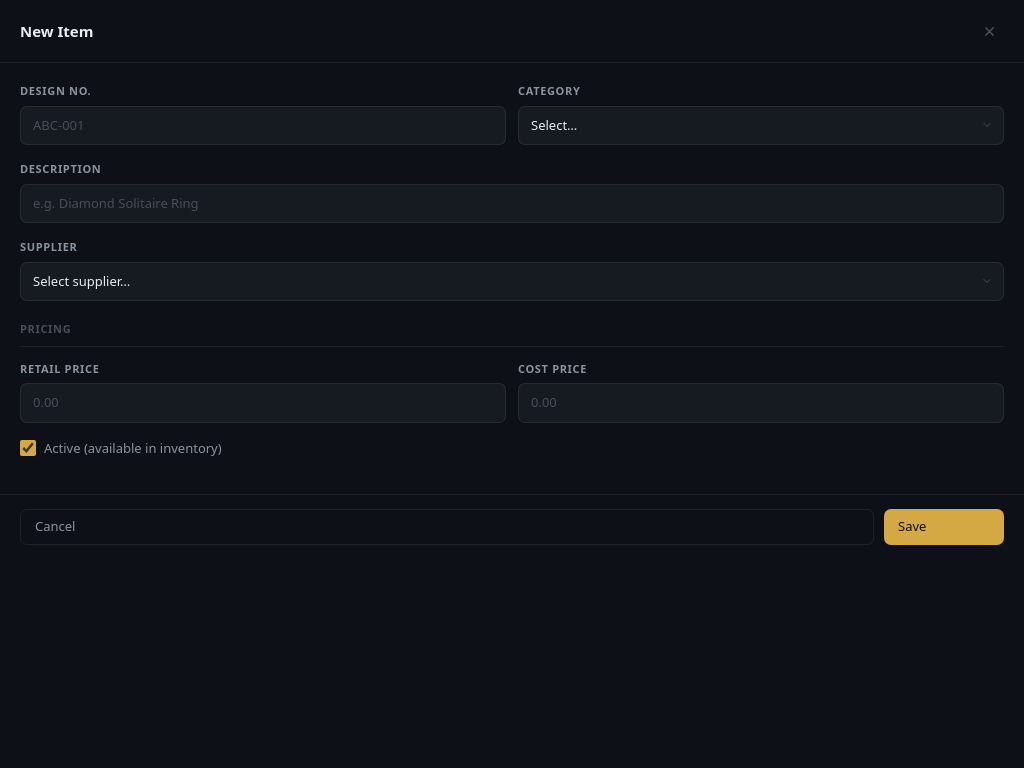
ItemDetail › shows a conflict message when a duplicate design returns 409 DESIGN_EXISTS
Type "PAN-001" into the field labelled "Design No." at (263, 125), box top-left (20, 106), bottom-right (506, 145)
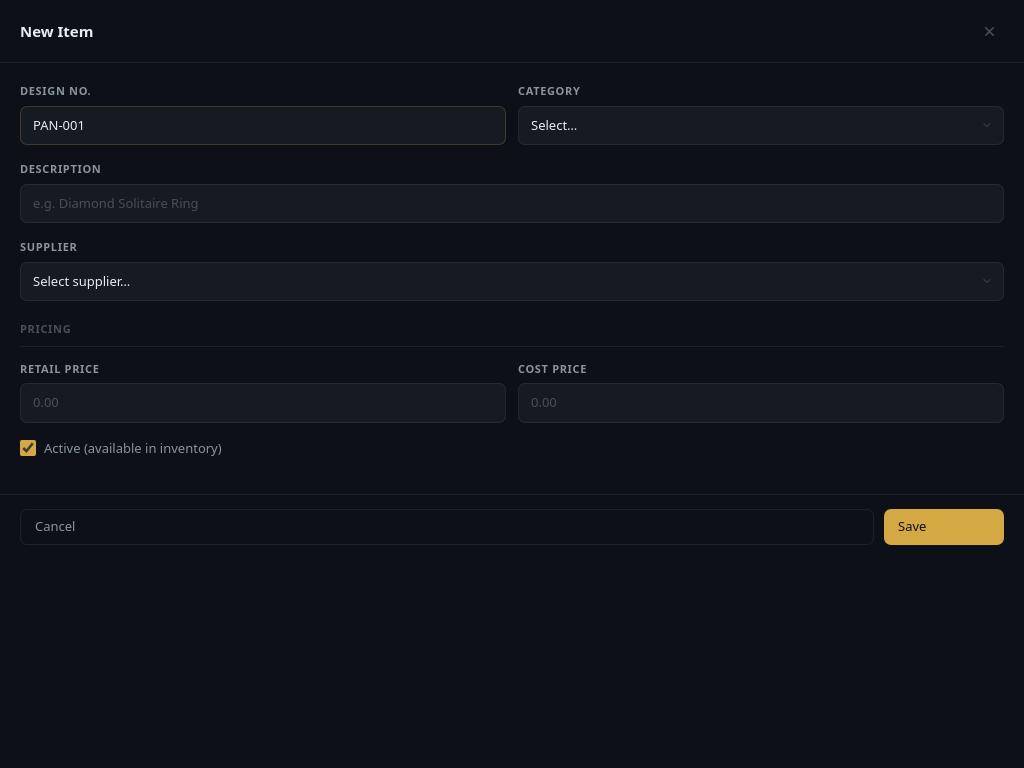
Type "Dupe" into the field labelled "Description" at (512, 203), box top-left (20, 184), bottom-right (1004, 223)
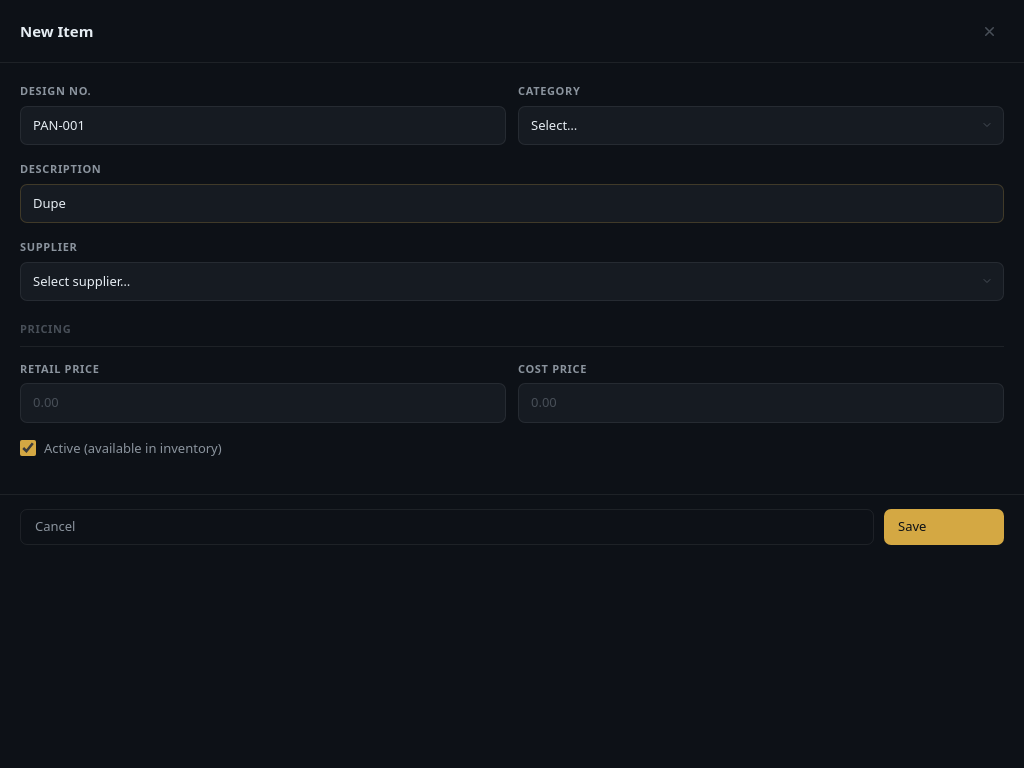
Type "499" into the number field labelled "Retail Price" at (263, 403), box top-left (20, 383), bottom-right (506, 422)
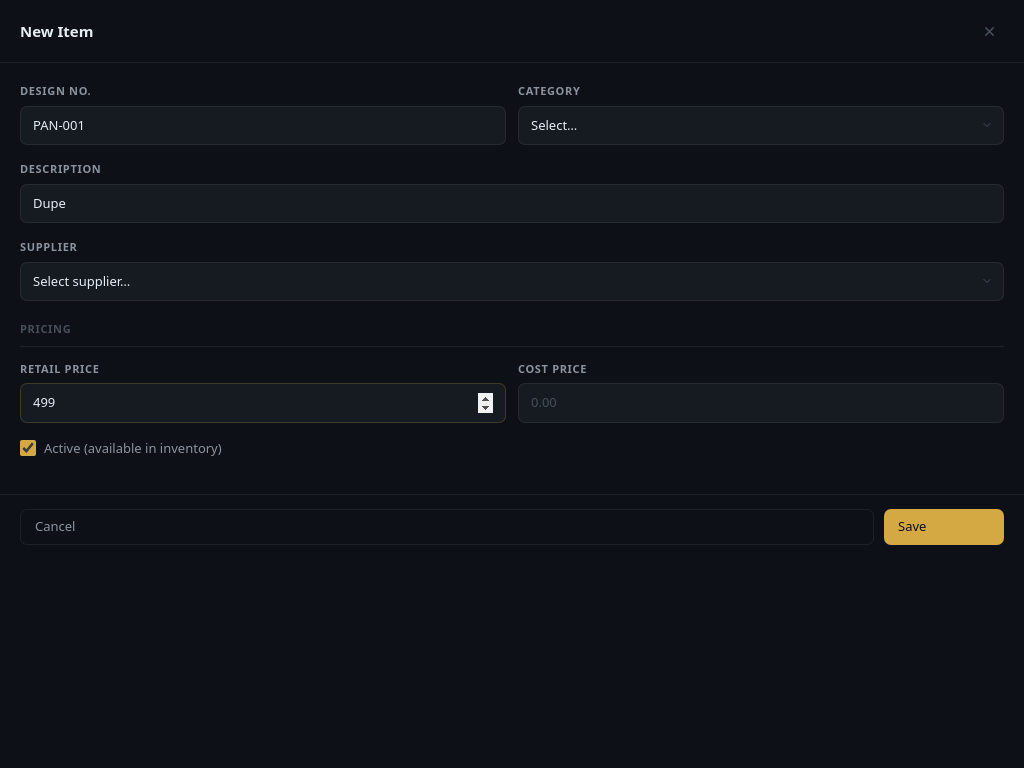
Click the button "Save" at (944, 527), box top-left (884, 509), bottom-right (1004, 544)
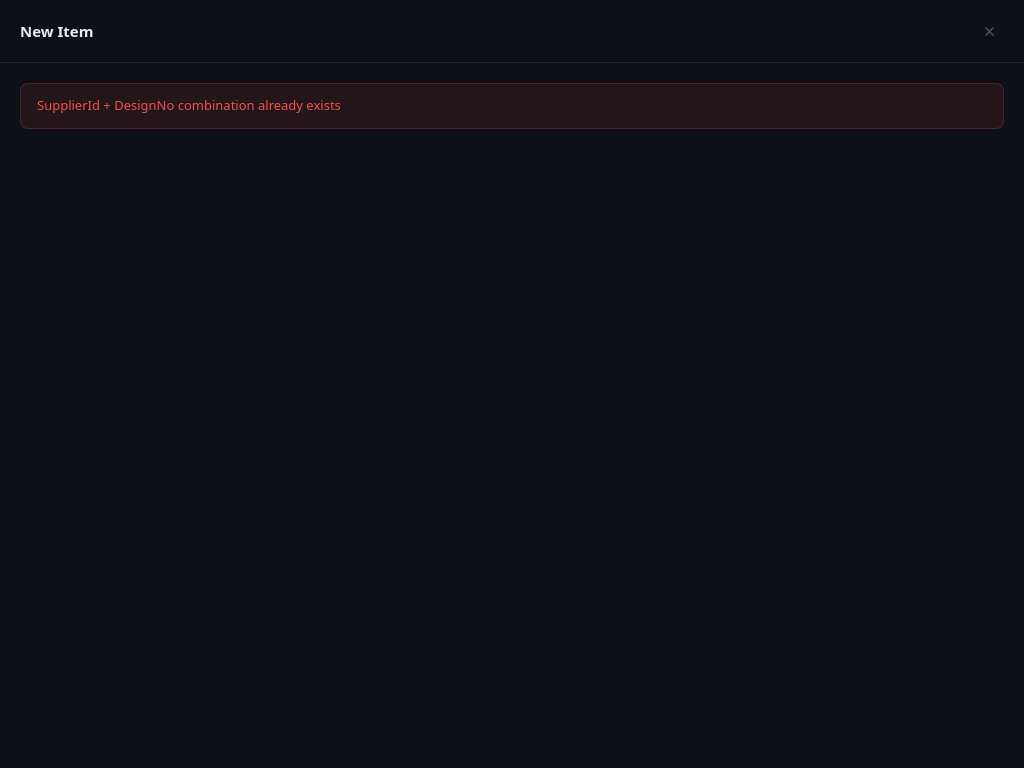
Now the message "SupplierId + DesignNo combination already exists" is shown, box top-left (20, 83), bottom-right (1004, 128)
